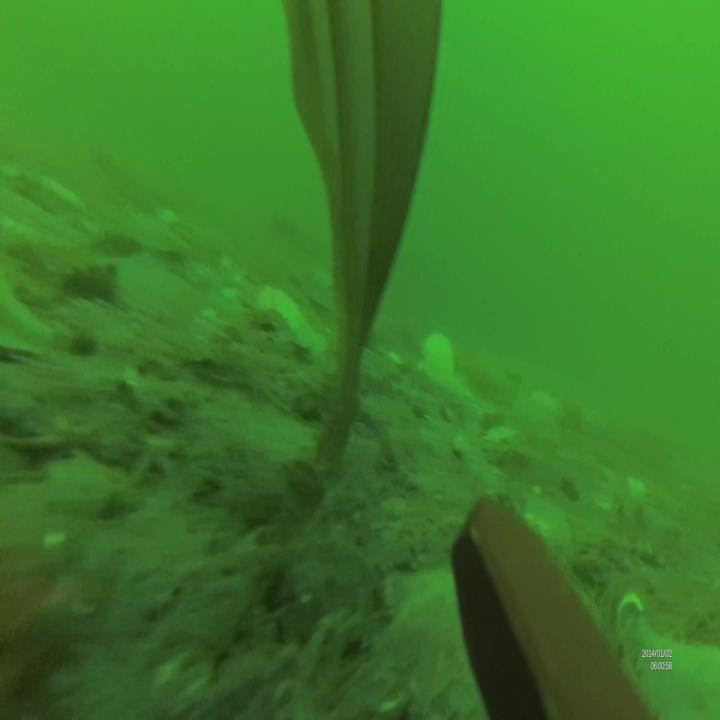echinus: (243, 280, 325, 356)
starfish: (381, 563, 526, 720), (618, 598, 720, 718)
